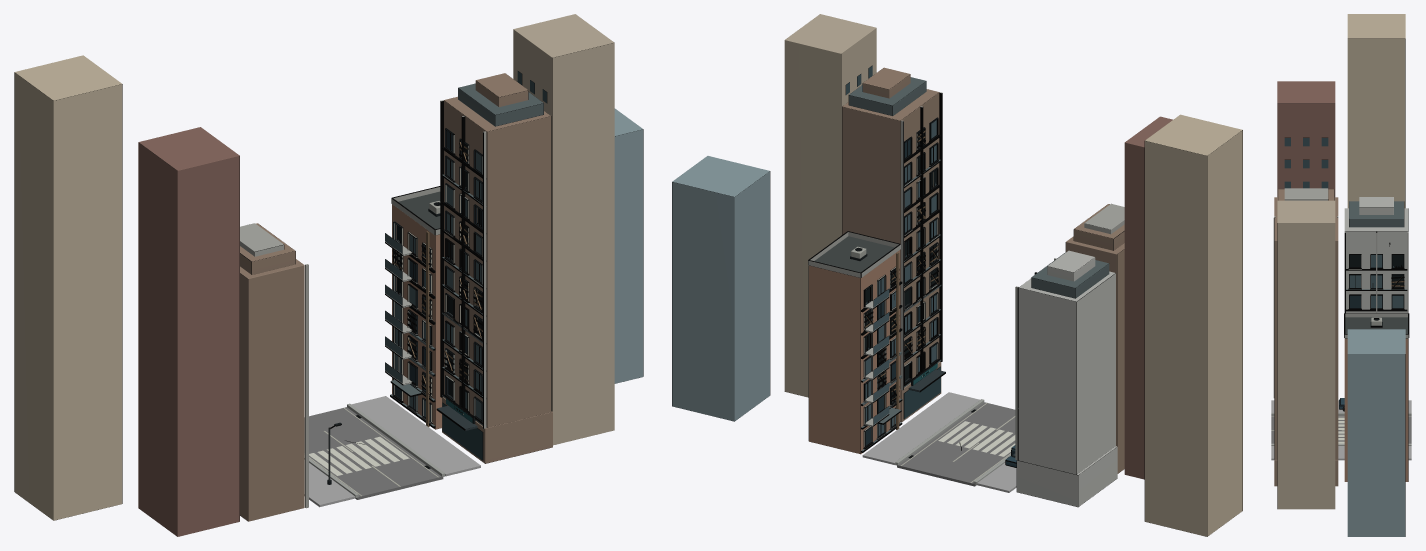
File: city_hd_16.glb
3 views of the same model, side by side, from view 1: azimuth 30°, elevation 25°; view 2: azimuth 150°, elevation 25°; view 3: azimuth 270°, elevation 25° (orthographic). The views are drawn at different scales.
Parts seen in each view (by area): view 1: CITY_blind, CITY_PBR_asphalt, CITY_PBR_pavement, CITY_zebra_paint, CITY_curb; view 2: CITY_blind, CITY_PBR_asphalt, CITY_PBR_pavement, CITY_zebra_paint, CITY_curb; view 3: CITY_blind, CITY_PBR_pavement, CITY_PBR_asphalt.
Boxes of the visible parts, x1,y1,x2,y2 form: CITY_blind: [14, 14, 643, 536]; CITY_PBR_asphalt: [304, 407, 443, 499]; CITY_PBR_pavement: [304, 396, 480, 507]; CITY_zebra_paint: [309, 436, 409, 475]; CITY_curb: [304, 403, 444, 498]; CITY_blind: [672, 14, 1242, 536]; CITY_PBR_asphalt: [897, 402, 1015, 486]; CITY_PBR_pavement: [862, 392, 1016, 492]; CITY_zebra_paint: [938, 421, 1015, 456]; CITY_curb: [895, 399, 1010, 484]; CITY_blind: [1273, 14, 1409, 536]; CITY_PBR_pavement: [1271, 400, 1411, 460]; CITY_PBR_asphalt: [1271, 415, 1411, 443].
Bounding box in the file's own units: 57.3 × 39.26 × 16.
Materials: 7 (1 with a texture image).
